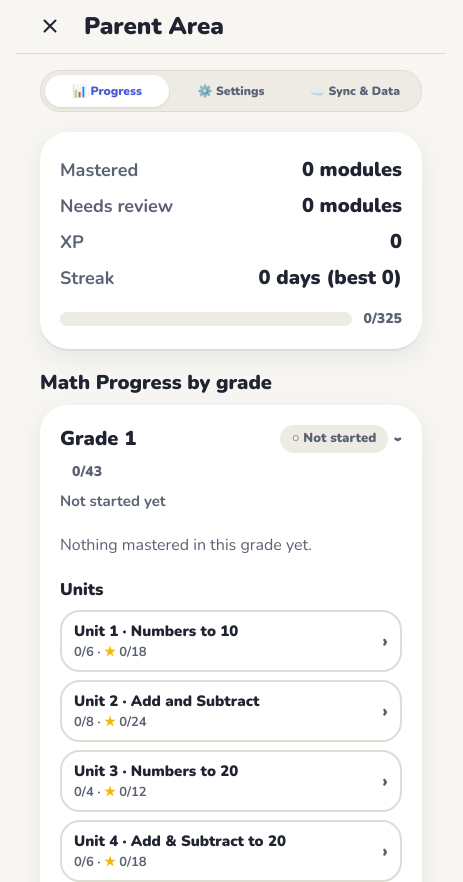
it: Parent Area — versi app dan tombol cek update › sedang mengecek: tombol terkunci
Click the button "⚙️ Settings".
click(231, 91)  # box [169,75,293,107]
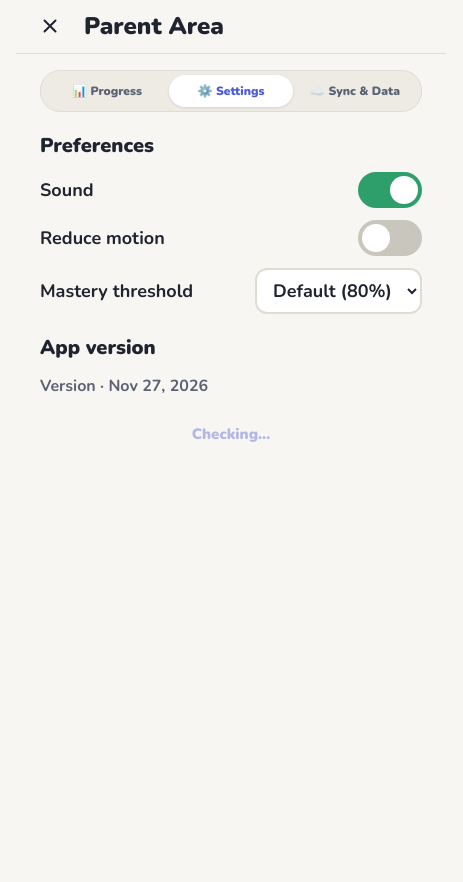
Result: the button "Checking…" is disabled at [40,410,422,458]
